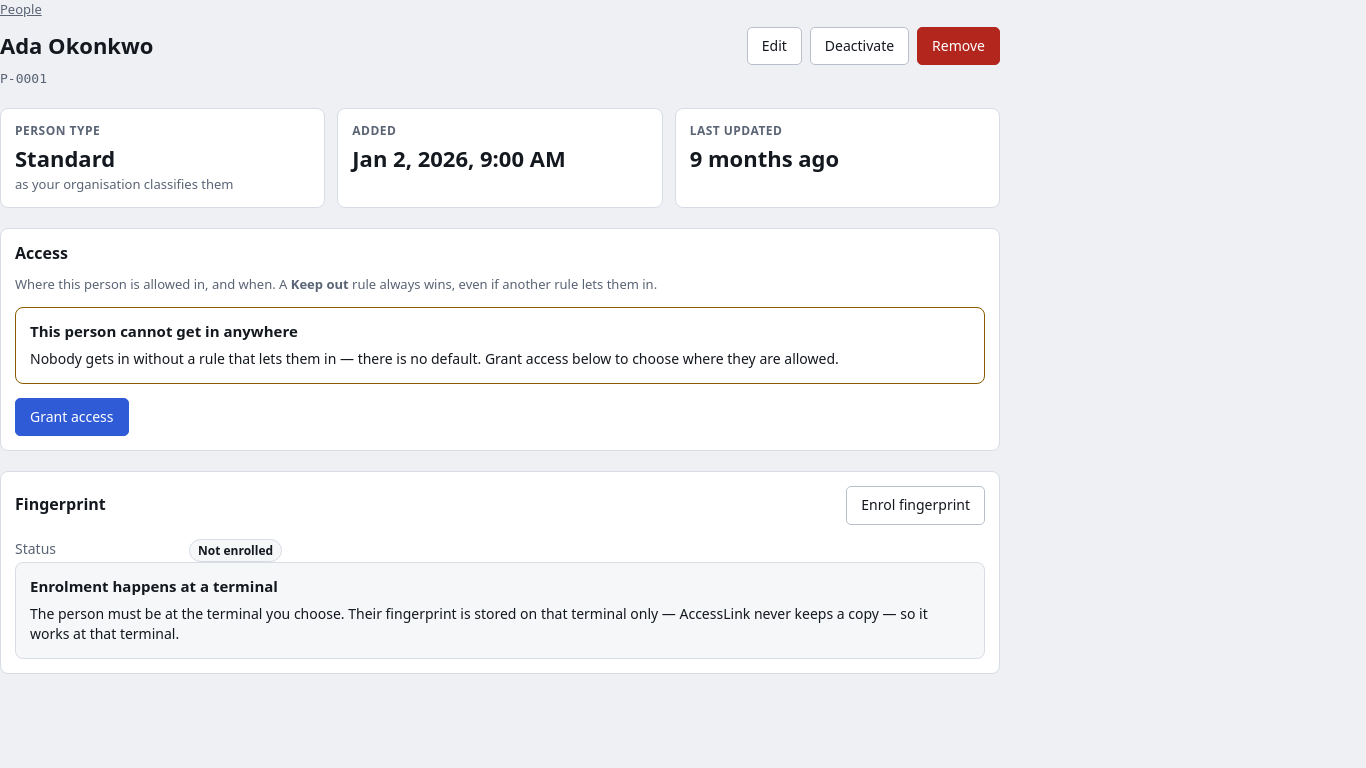
Test: choosing a terminal › refuses to start until a terminal is chosen, and asks in words
This screenshot has width=1366, height=768.
Click the button "Enrol fingerprint": (916, 505) [846,486,985,524]
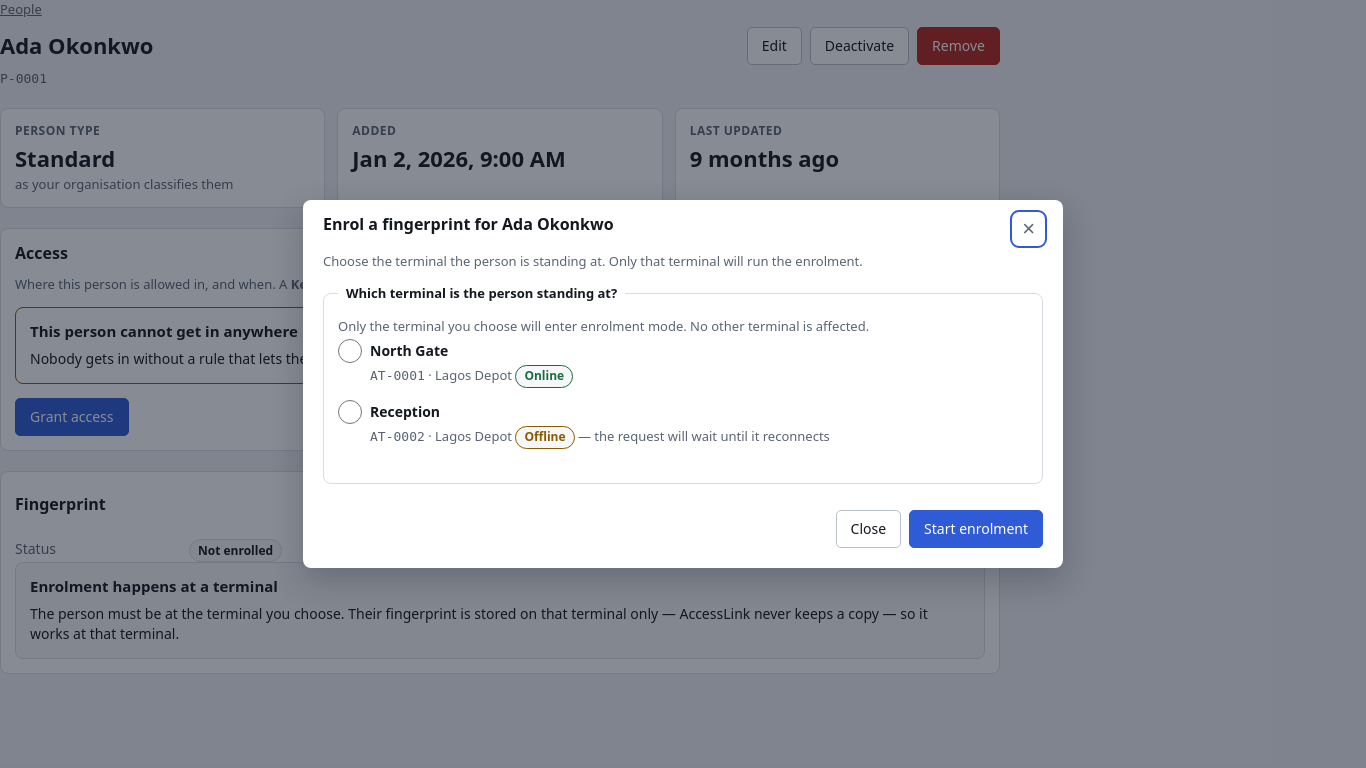
Expected: the radio button labelled "North Gate" is shown, [338,339,362,363]
Click the button "Start enrolment": (976, 529) [909,510,1043,548]
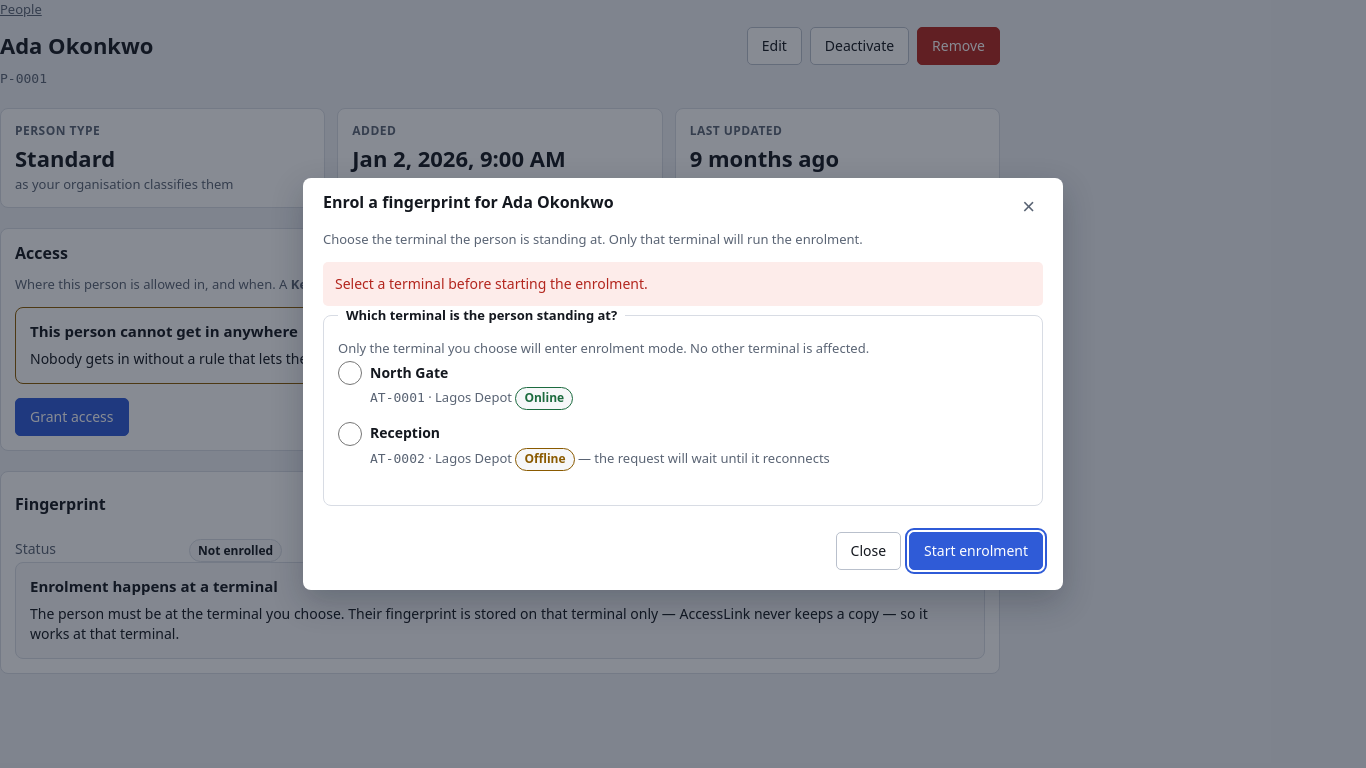
Expected: the text "Select a terminal before starting the enrolment." is shown, [335,274,648,293]
